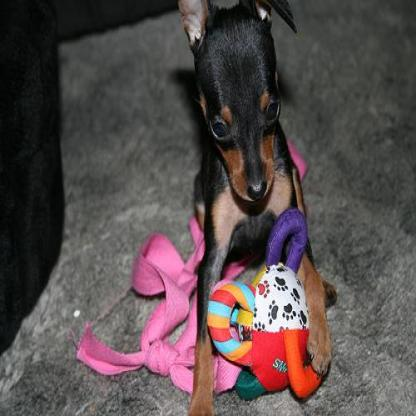miniature_pinscher: (176, 0, 337, 414)
